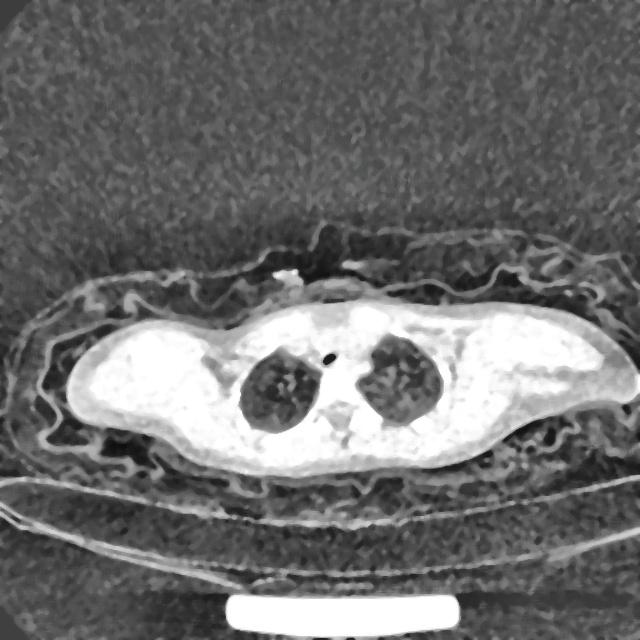covid: (62, 293, 638, 482)
